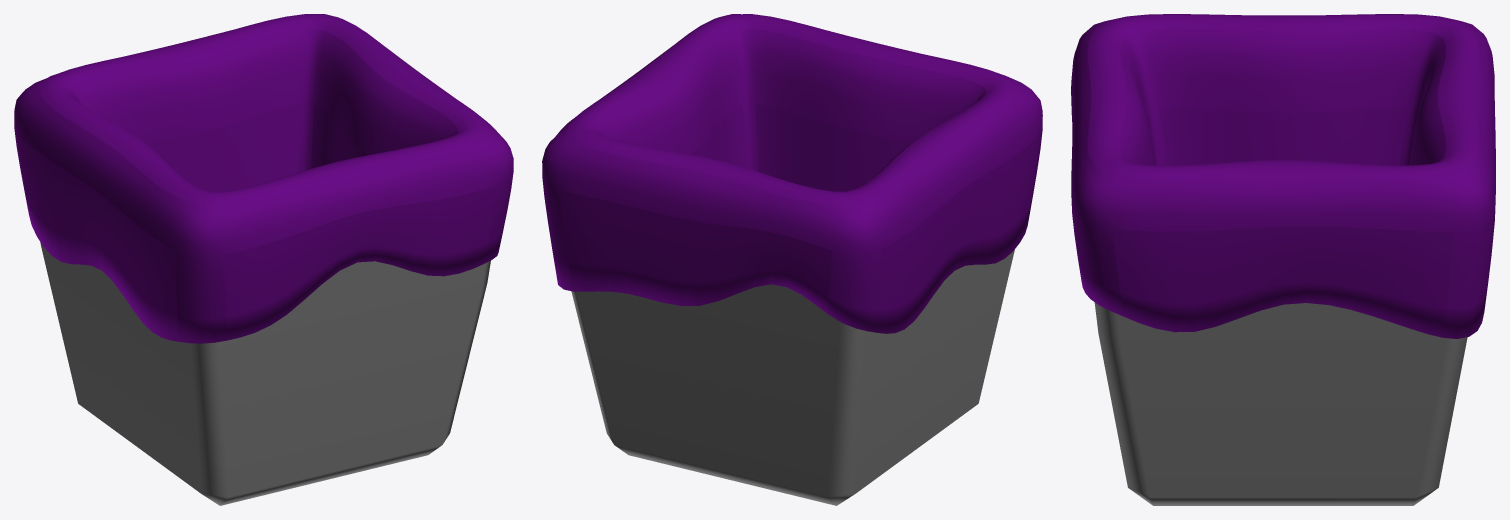
The model's file is Bin.fbx.
3 renders of one model, left to right at view 1: azimuth 30°, elevation 25°; view 2: azimuth 150°, elevation 25°; view 3: azimuth 270°, elevation 25°, orthographic. The views are drawn at different scales.
Parts seen in each view (by area): view 1: Plane.001, Plane; view 2: Plane.001, Plane; view 3: Plane.001, Plane.
Part boxes in pixels (x1,y1,x2,y2): Plane.001: (14, 14, 513, 343); Plane: (40, 242, 490, 505); Plane.001: (542, 14, 1042, 333); Plane: (571, 249, 1014, 505); Plane.001: (1071, 14, 1495, 338); Plane: (1094, 302, 1467, 505).
Size of the model in its own units: 97.01 by 90.4 by 96.94.
